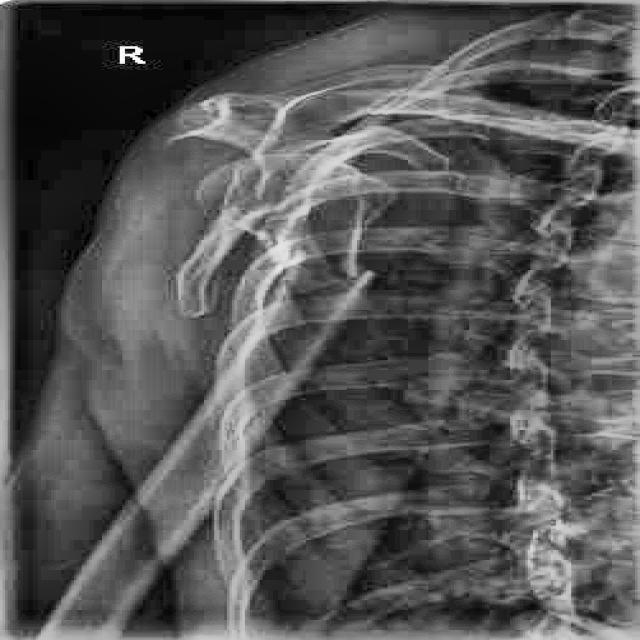shoulder fracture: (284, 242, 406, 308)
